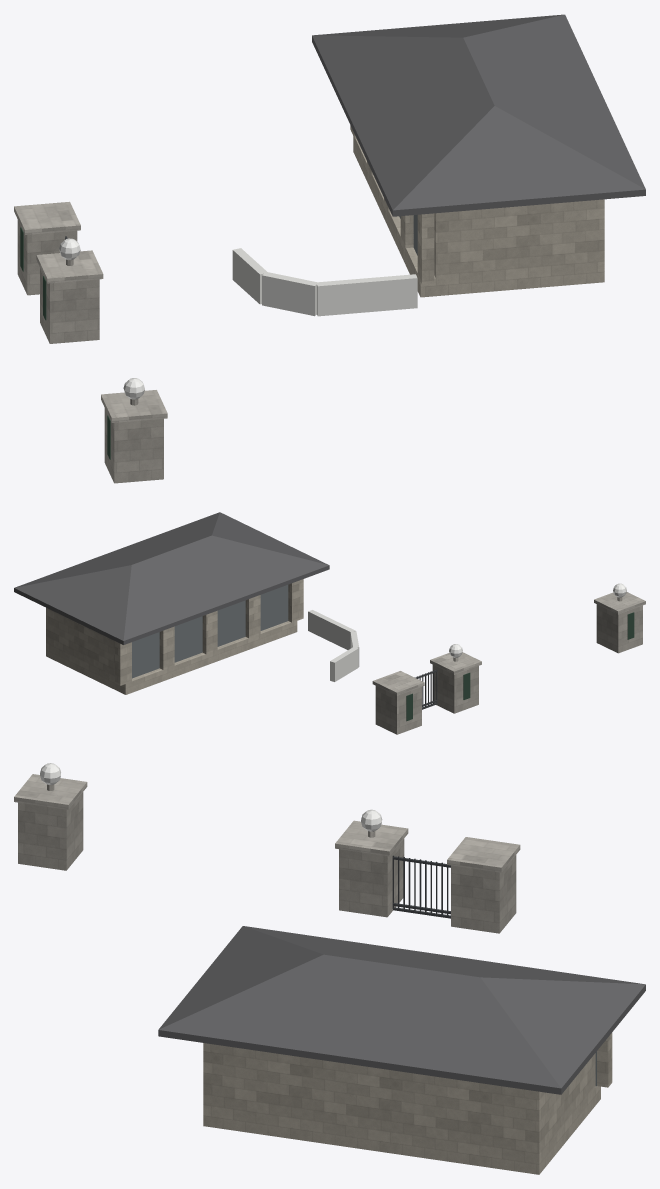
3 views of the same model, one above another, from view 1: azimuth 30°, elevation 25°; view 2: azimuth 150°, elevation 25°; view 3: azimuth 270°, elevation 25° (orthographic). The views are drawn at different scales.
Parts seen in each view (by area): view 1: gate-sangheo; view 2: gate-sangheo; view 3: gate-sangheo.
Part boxes in pixels (<box>): gate-sangheo: <box>14,14,645,483</box>; gate-sangheo: <box>14,512,645,734</box>; gate-sangheo: <box>14,763,645,1174</box>.
Size of the model in its own units: 21.13 by 4.1 by 16.01.
Materials: 10 (3 with a texture image).
